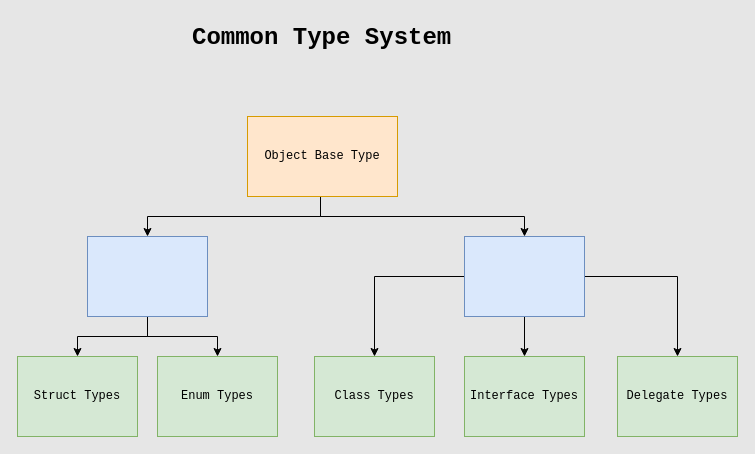
The diagram is 755 pixels wide and 454 high, and some of its shapes have lost their labels. The shapes that lost their labels are listed below. From the top down, each one's box as (x1, y1, x2, y2) in pixels, then its label:
(86, 236, 208, 316): Value Types
(464, 236, 584, 316): Reference Types
